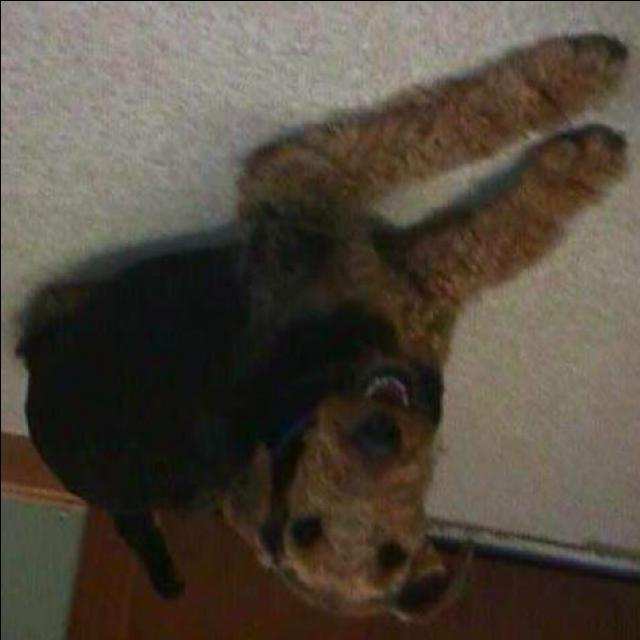airedale: (15, 34, 629, 626)
